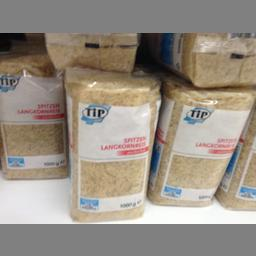rice: (64, 66, 162, 220), (148, 76, 252, 206), (0, 54, 67, 177), (148, 33, 254, 88), (44, 33, 138, 70)
